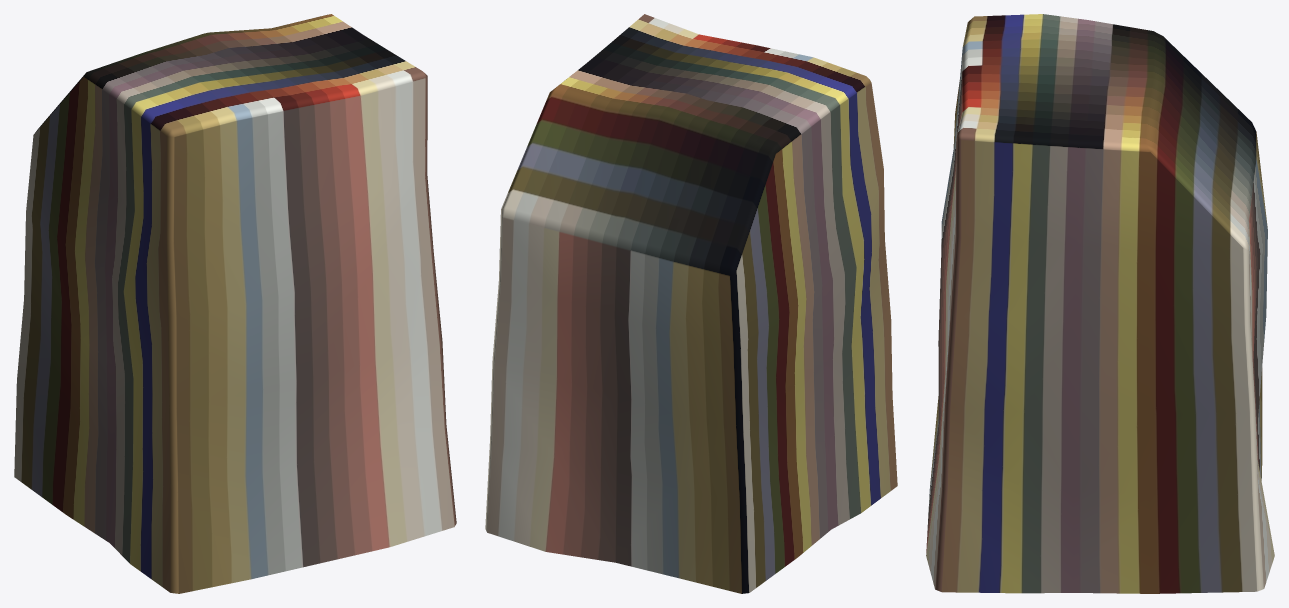
The model's file is MSH_Building_011.glb.
The picture shows the model from 3 angles, left to right: view 1: azimuth 30°, elevation 25°; view 2: azimuth 150°, elevation 25°; view 3: azimuth 270°, elevation 25°; orthographic projection. The views are drawn at different scales.
Parts seen in each view (by area): view 1: Base.009; view 2: Base.009; view 3: Base.009.
Boxes of the visible parts, <box> form: Base.009: <box>14,14,456,593</box>; Base.009: <box>485,14,897,593</box>; Base.009: <box>926,14,1274,593</box>.
Bounding box in the file's own units: 5.32 × 7.94 × 5.55.
Materials: 1 (1 with a texture image).
